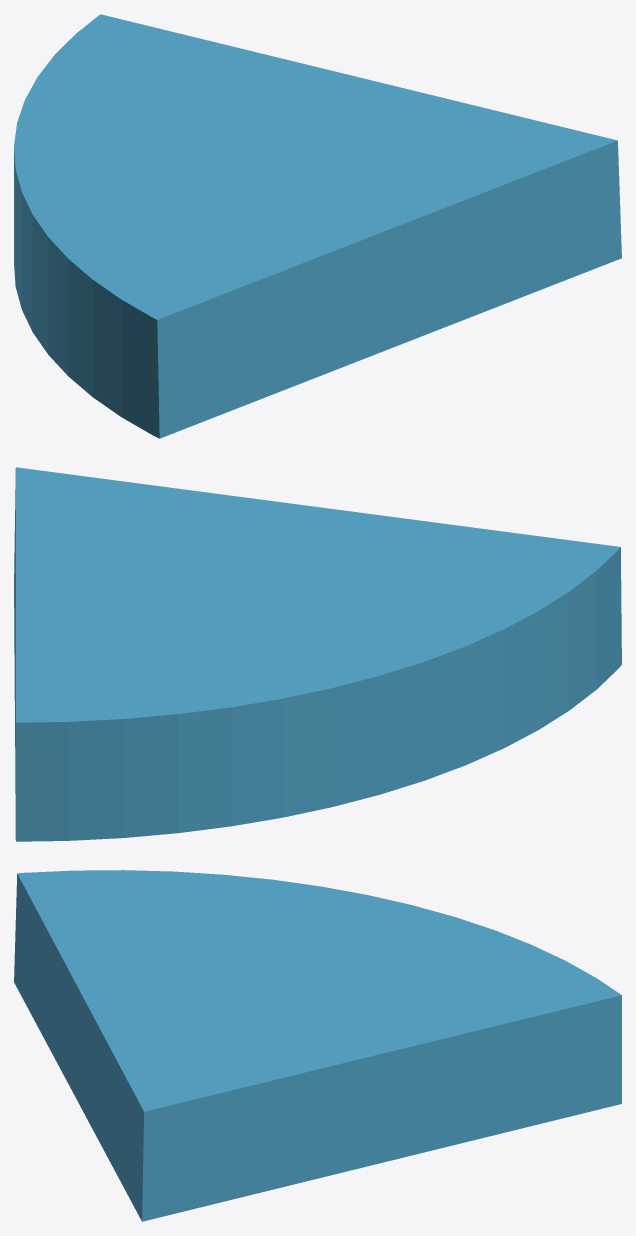
Rendered from floor_piece.fbx.
3 views of the same model, one above another, from view 1: azimuth 30°, elevation 25°; view 2: azimuth 150°, elevation 25°; view 3: azimuth 270°, elevation 25° (orthographic). The views are drawn at different scales.
Parts seen in each view (by area): view 1: Cylinder.008; view 2: Cylinder.008; view 3: Cylinder.008.
Boxes of the visible parts, x1=… form: Cylinder.008: x1=14, y1=14, x2=621, y2=438; Cylinder.008: x1=14, y1=467, x2=621, y2=841; Cylinder.008: x1=14, y1=870, x2=621, y2=1221.
Size of the model in its own units: 148 by 30.88 by 157.
